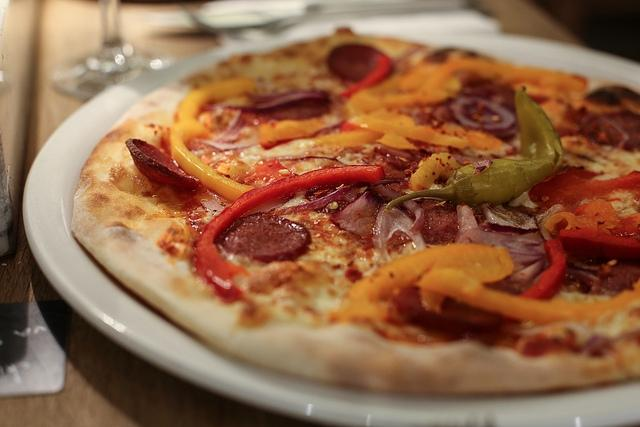bell pepper: (192, 165, 386, 302), (347, 244, 515, 316), (170, 77, 254, 201), (418, 268, 578, 326), (348, 104, 470, 150), (524, 166, 638, 213), (258, 110, 347, 148), (418, 58, 511, 92), (518, 239, 566, 302), (557, 227, 640, 261), (336, 54, 396, 100), (503, 69, 588, 92), (314, 128, 385, 147)
